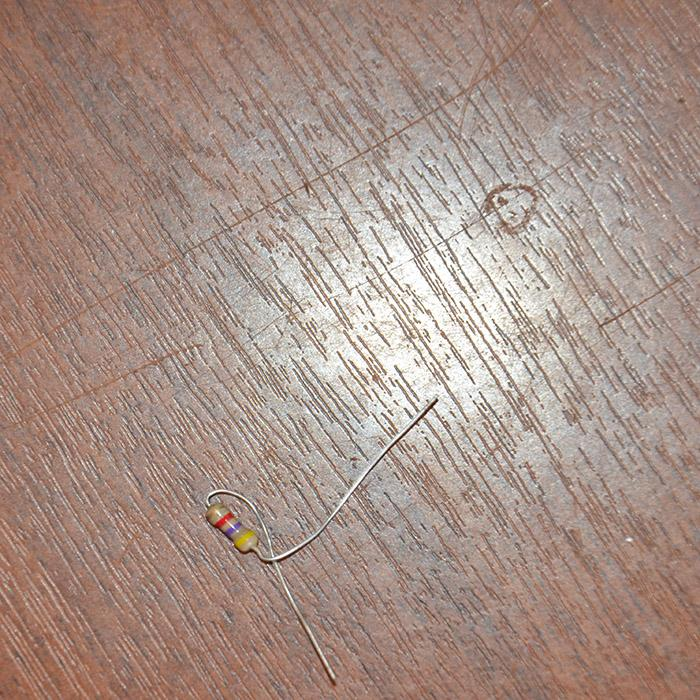resistor: (203, 498, 258, 555)
